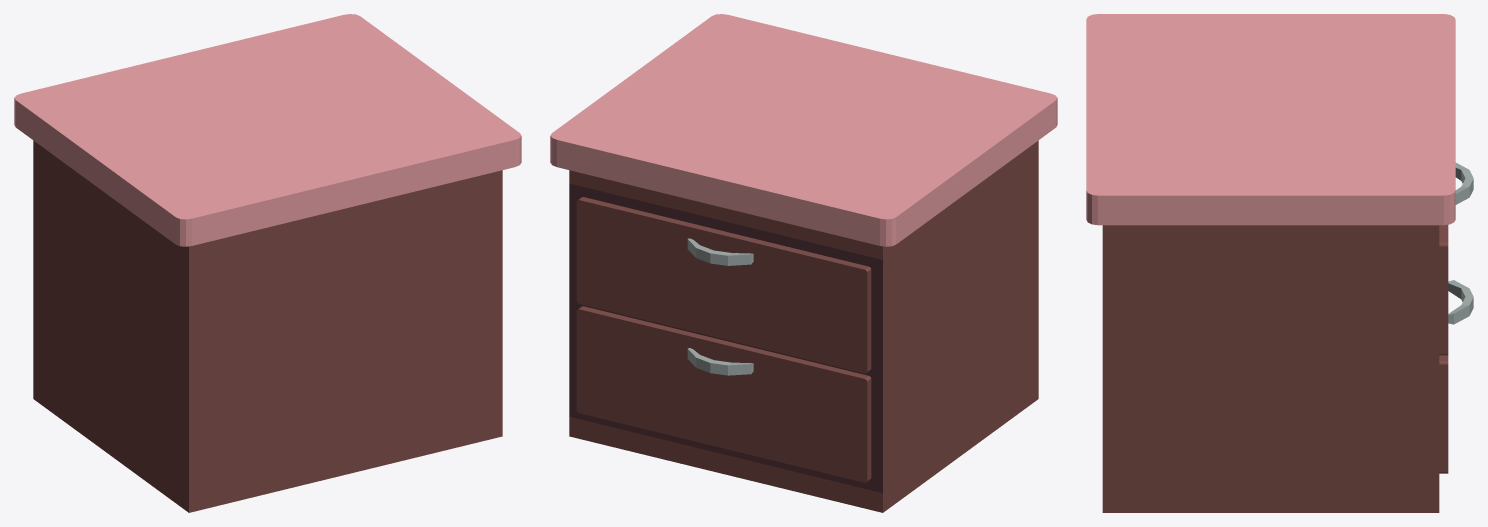
The model's file is BancadaRosa.fbx.
The picture shows the model from 3 angles, left to right: view 1: azimuth 30°, elevation 25°; view 2: azimuth 150°, elevation 25°; view 3: azimuth 270°, elevation 25°; orthographic projection. The views are drawn at different scales.
Parts seen in each view (by area): view 1: BancadaRosa; view 2: BancadaRosa, Gavetas2, MetalGaveta2; view 3: BancadaRosa, Gavetas2, MetalGaveta2.
Part boxes in pixels (box(x1,y1,x2,y2)): BancadaRosa: box(14, 14, 521, 512); BancadaRosa: box(550, 14, 1057, 512); Gavetas2: box(576, 197, 871, 482); MetalGaveta2: box(687, 238, 753, 375); BancadaRosa: box(1086, 14, 1455, 512); Gavetas2: box(1439, 224, 1448, 473); MetalGaveta2: box(1448, 162, 1473, 324).
Size of the model in its own units: 192 by 160 by 173.
